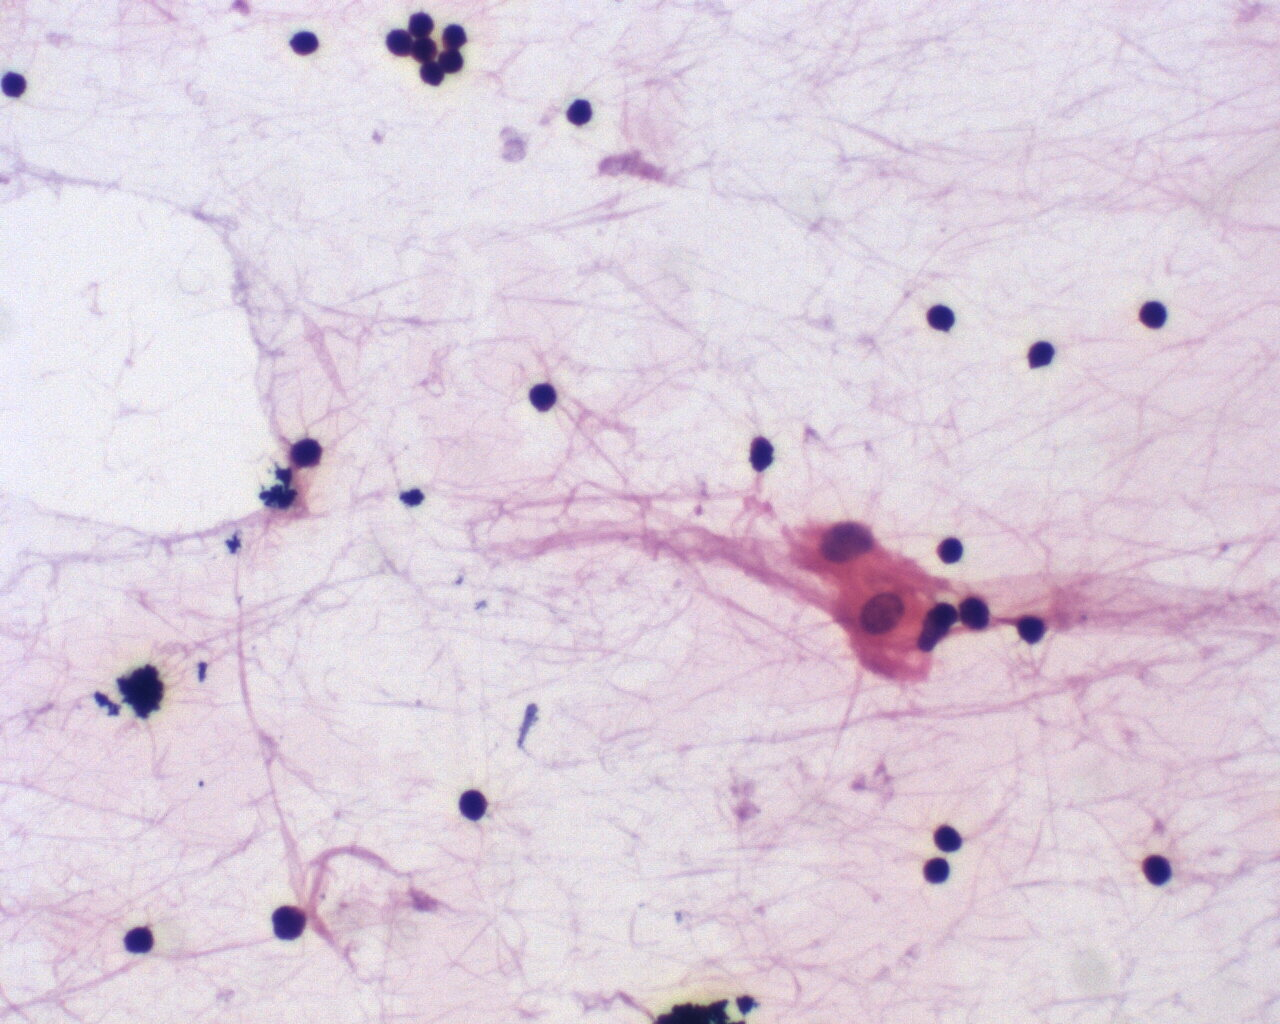lymph: (449, 787, 496, 825), (1018, 334, 1062, 375), (118, 920, 158, 961), (521, 377, 561, 416), (1134, 296, 1171, 335), (920, 303, 961, 338), (932, 532, 971, 567), (1136, 852, 1172, 888), (929, 820, 968, 854), (565, 92, 599, 131), (917, 854, 952, 890), (282, 27, 318, 59)
meso: (830, 573, 932, 649)
